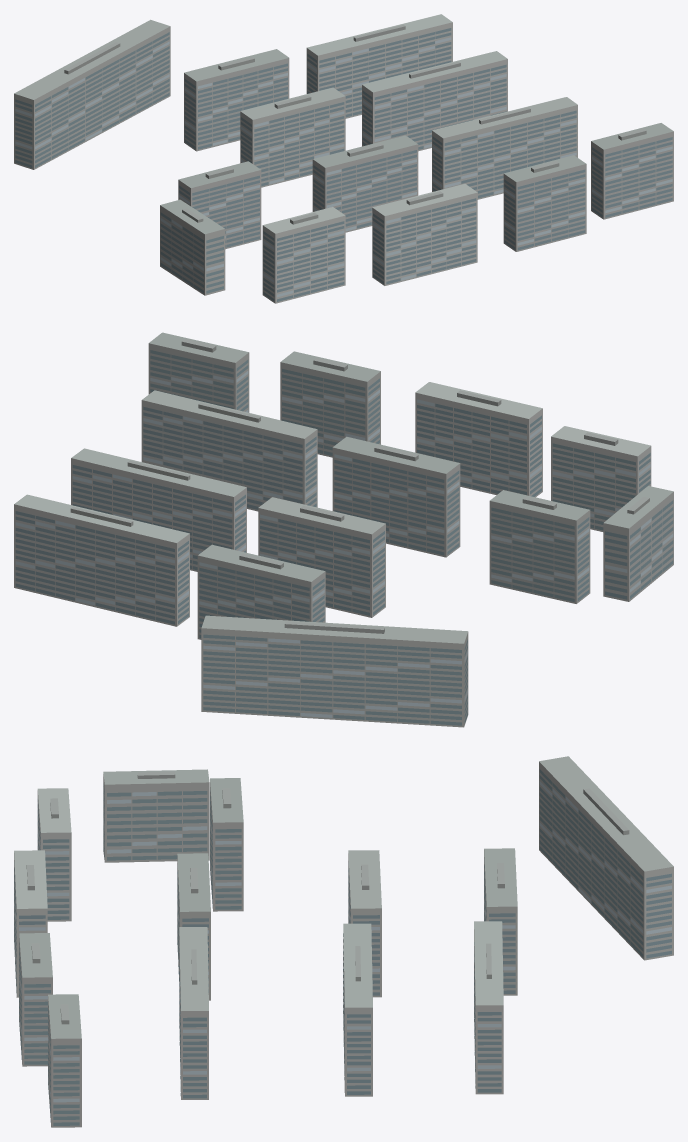
The model's file is apt-a14207203.glb.
3 views of the same model, one above another, from view 1: azimuth 30°, elevation 25°; view 2: azimuth 150°, elevation 25°; view 3: azimuth 270°, elevation 25° (orthographic). The views are drawn at different scales.
Parts seen in each view (by area): view 1: apt-a14207203; view 2: apt-a14207203; view 3: apt-a14207203.
Part boxes in pixels (x1,y1,x2,y2): apt-a14207203: (14, 14, 673, 303); apt-a14207203: (14, 332, 673, 727); apt-a14207203: (14, 756, 673, 1127).
Size of the model in its own units: 260 by 40 by 257.
